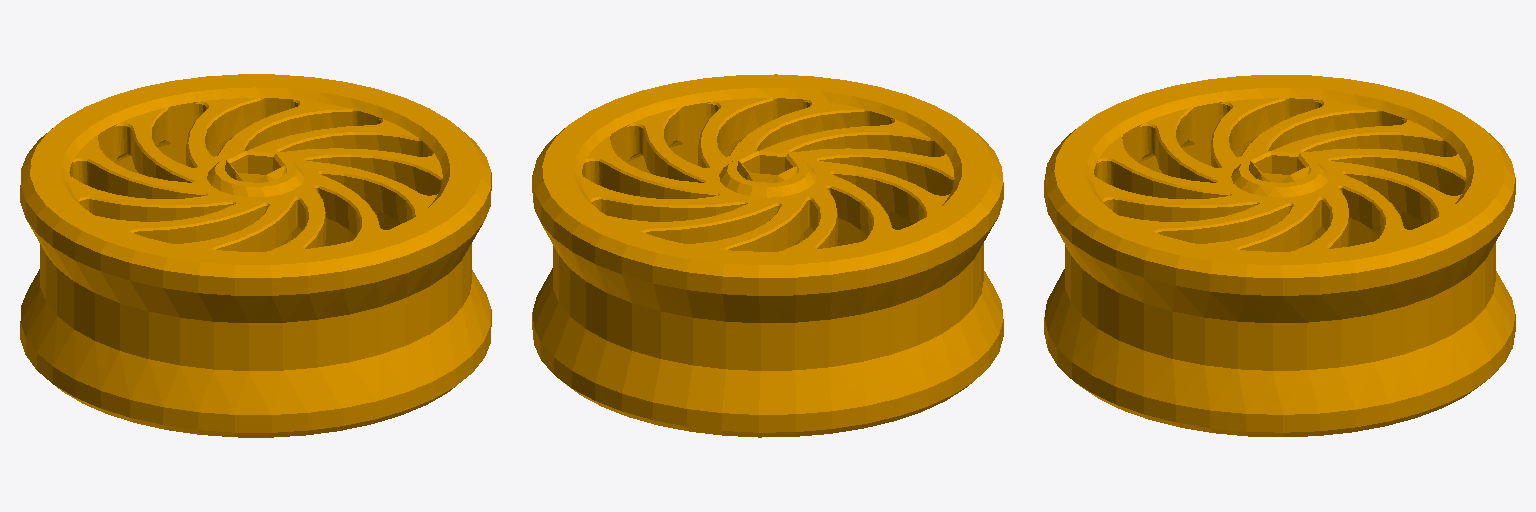
robot.urdf — 00301_socket:
<?xml version="1.0"?>
<robot name="00301_socket">
	<link name="00301_socket">
		<visual>
			<geometry>
				<mesh filename="../mesh/00301/asset_socket.obj"/>
			</geometry>
		</visual>
		<collision>
			<geometry>
				<mesh filename="../mesh/00301/asset_socket.obj"/>
			</geometry>
			<sdf resolution="256"/>
		</collision>
	</link>
</robot>

--- What the picture shows (computed from the rendered views, not written in the file) ---
The picture shows the robot from 3 angles, left to right: view 1: azimuth 30°, elevation 25°; view 2: azimuth 150°, elevation 25°; view 3: azimuth 270°, elevation 25°; orthographic projection.
Model 00301_socket with 1 links and 0 joints (none), rooted at 00301_socket, posed every joint at zero.
Links seen in each view (by area): view 1: 00301_socket; view 2: 00301_socket; view 3: 00301_socket.
Link boxes in pixels (box(x1,y1,x2,y2)): 00301_socket: box(20, 74, 491, 437); 00301_socket: box(532, 74, 1003, 437); 00301_socket: box(1044, 75, 1515, 436).
Bounding box of the posed robot: 0.0564 × 0.0564 × 0.0236 m (x, y, z).
1 mesh visuals loaded from 1 distinct referenced files (1 OBJ).